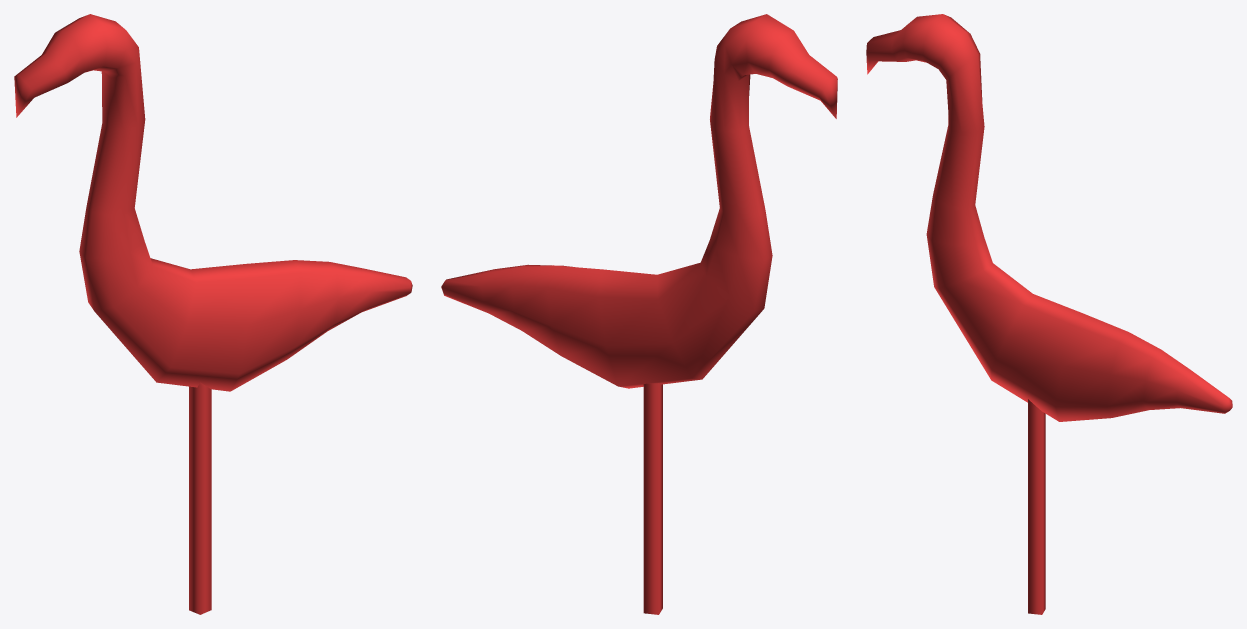
File: Flamingo.FBX
The picture shows the model from 3 angles, left to right: view 1: azimuth 30°, elevation 25°; view 2: azimuth 150°, elevation 25°; view 3: azimuth 330°, elevation 25°; orthographic projection. The views are drawn at different scales.
Visible parts, largest first — view 1: Line006; view 2: Line006; view 3: Line006.
Boxes of the visible parts, <box> form: Line006: <box>14,14,412,614</box>; Line006: <box>441,14,837,614</box>; Line006: <box>866,14,1232,614</box>.
Bounding box in the file's own units: 181 × 270 × 23.23.
